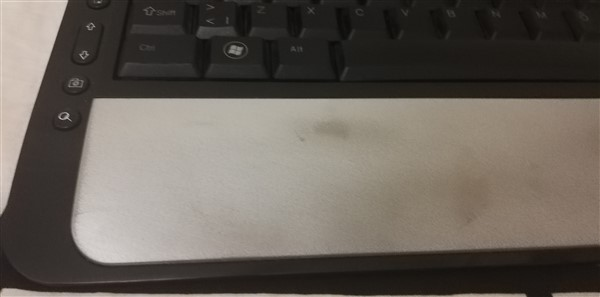klavye: (20, 1, 599, 294)
